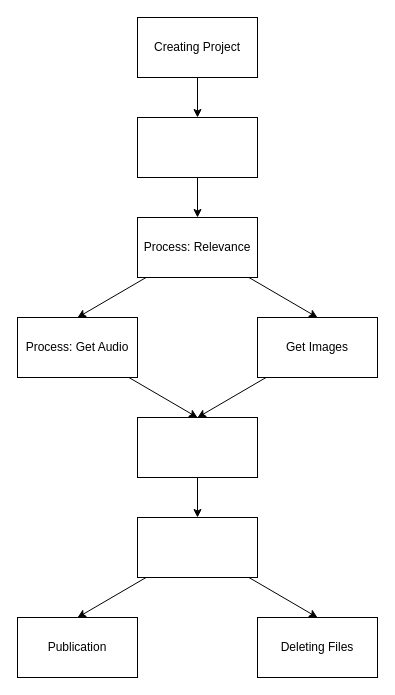
Some shapes in this 395 by 695 pixel diagram are drawn without their labels. Here are the shapes that lost their labels. From the top down, the centre of each, then its label:
At pixel 197 147: "Getting news".
At pixel 197 447: "Editing".
At pixel 197 547: "Review".
